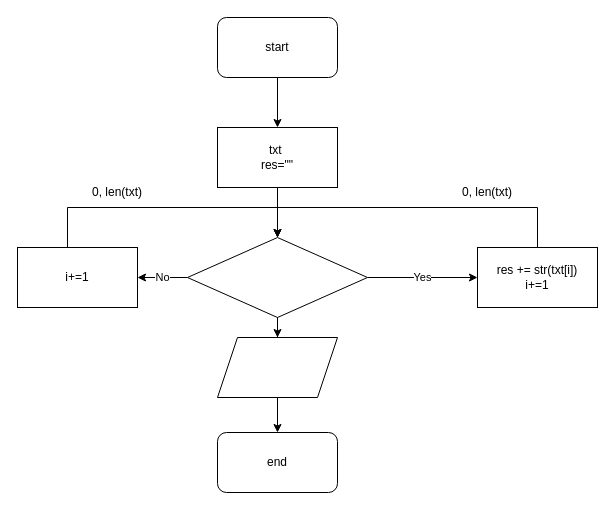
The diagram is 615 pixels wide and 510 high, and some of its shapes have lost their labels. Each missing label, with the centre of its shape:
"if txt[i]!=(txt[i-1])" goes at [277,277].
"res" goes at [277,367].
